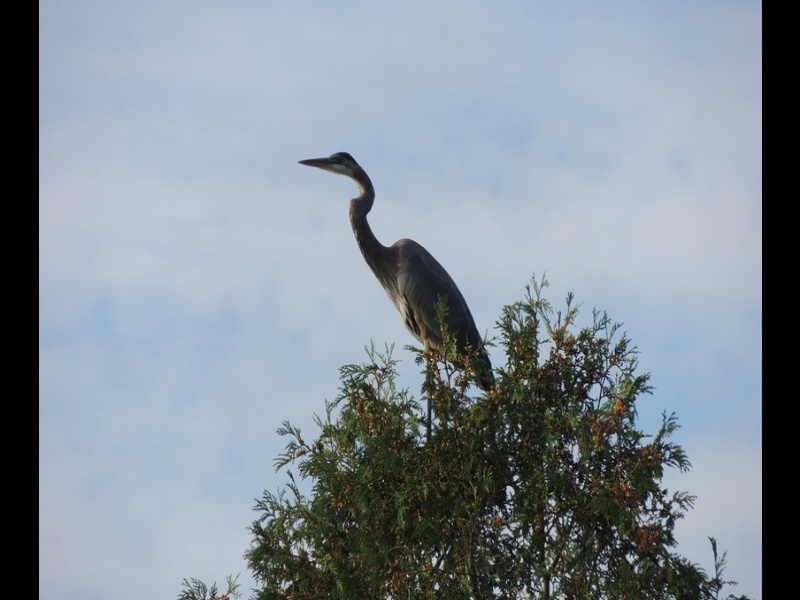heron: (295, 144, 508, 455)
